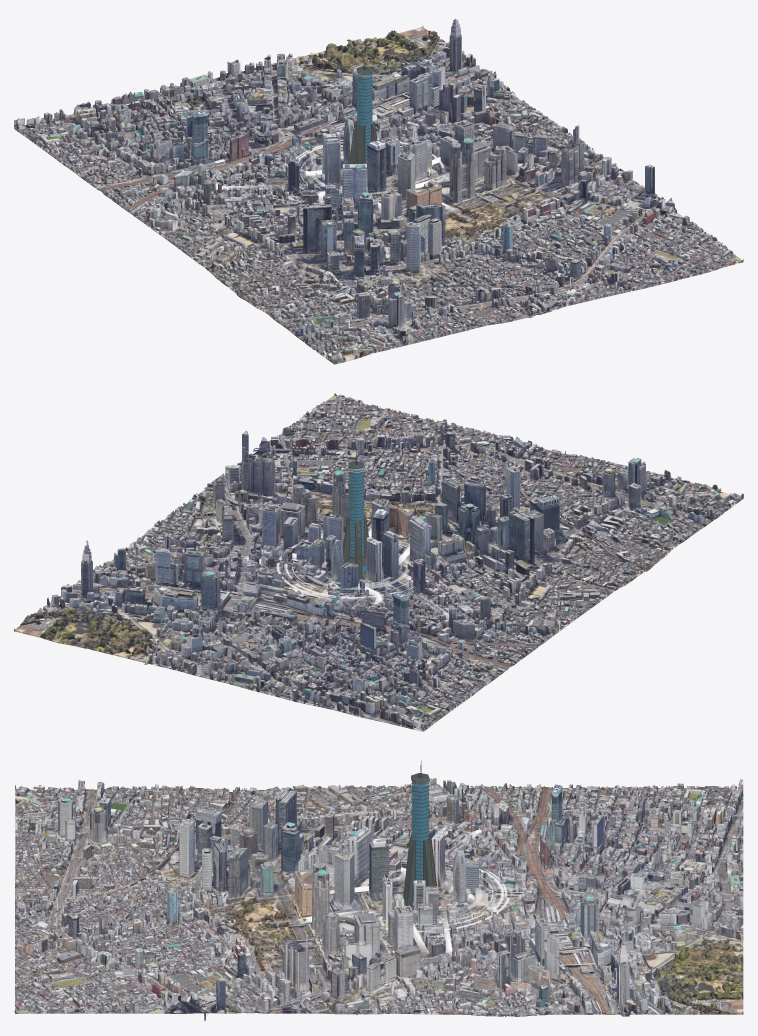
Rendered from mapdemo.glb.
3 renders of one model, top to bottom at view 1: azimuth 30°, elevation 25°; view 2: azimuth 150°, elevation 25°; view 3: azimuth 270°, elevation 25°, orthographic. The views are drawn at different scales.
Visible parts, largest first — view 1: GroundBuilding, MainBuilding, CircleMain, Plane; view 2: GroundBuilding, MainBuilding, CircleMain, Plane; view 3: GroundBuilding, MainBuilding, CircleMain, Plane.
Boxes of the visible parts, bbox=[...] form: GroundBuilding: bbox=[14, 15, 743, 364]; MainBuilding: bbox=[349, 55, 377, 169]; CircleMain: bbox=[270, 64, 449, 212]; Plane: bbox=[215, 157, 457, 218]; GroundBuilding: bbox=[14, 393, 743, 731]; MainBuilding: bbox=[342, 451, 368, 581]; CircleMain: bbox=[257, 460, 450, 608]; Plane: bbox=[243, 528, 448, 621]; GroundBuilding: bbox=[14, 778, 743, 1021]; MainBuilding: bbox=[403, 760, 436, 907]; CircleMain: bbox=[330, 771, 527, 940]; Plane: bbox=[290, 830, 506, 956].
Bounding box in the file's own units: 335 × 114 × 456.
82 materials, 82 textured.
